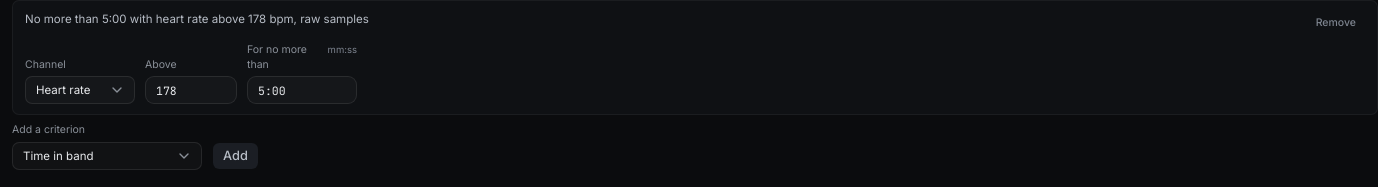
Test: CriteriaEditor › edits a ceiling's duration in mm:ss
The width and height of the screenshot is (1378, 187).
Replace the text in the field labelled "For no more than mm:ss" with "6:00": coordinates (302, 90) [247,76,357,104]
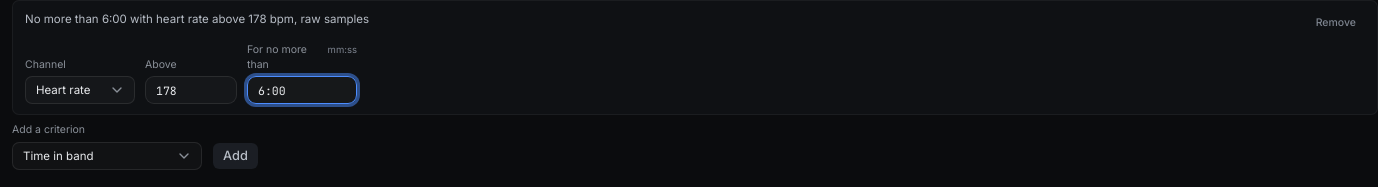
expect the text "No more than 6:00 with heart rate above 178 bpm, raw samples" is shown: met, box [25,12,369,26]
